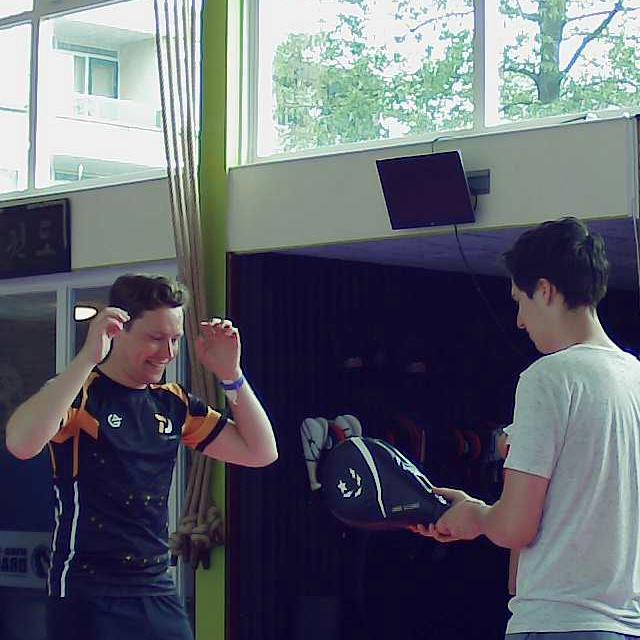paddle: (316, 434, 458, 535)
